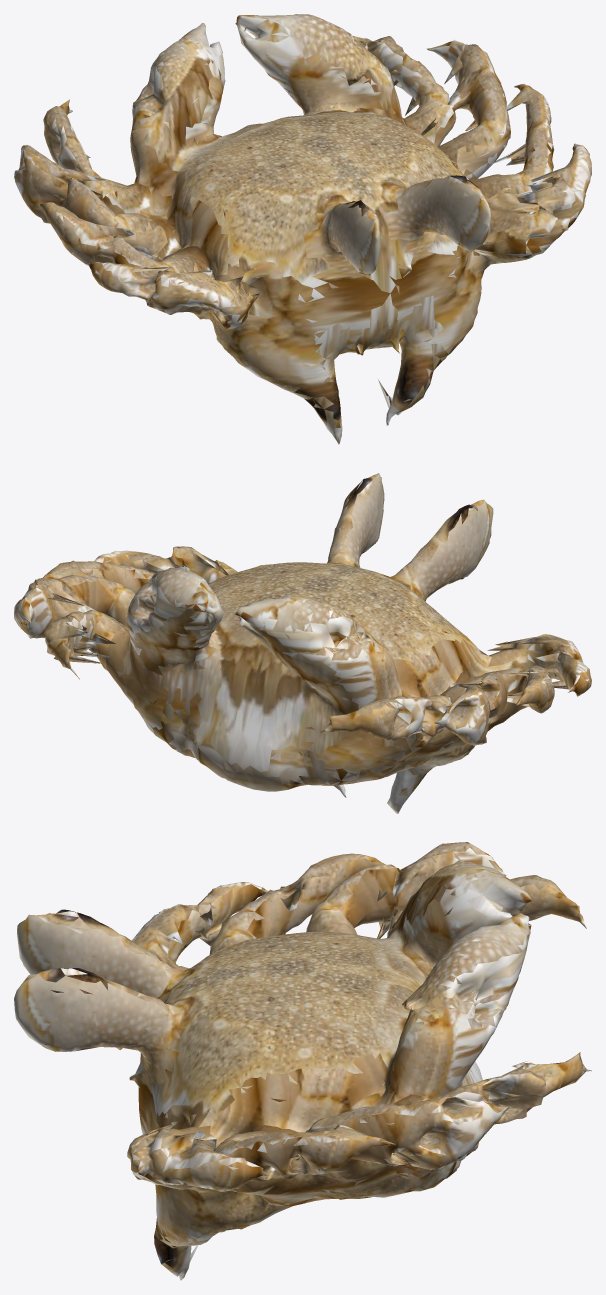
File: fish_ghostcrab.glb
3 renders of one model, top to bottom at view 1: azimuth 30°, elevation 25°; view 2: azimuth 150°, elevation 25°; view 3: azimuth 270°, elevation 25°, orthographic. The views are drawn at different scales.
Parts seen in each view (by area): view 1: orient; view 2: orient; view 3: orient.
Boxes of the visible parts, x1,y1,x2,y2 form: orient: [14, 14, 591, 444]; orient: [14, 473, 591, 813]; orient: [14, 842, 591, 1280].
Size of the model in its own units: 1.99 by 1.21 by 1.7.
Materials: 1 (1 with a texture image).
